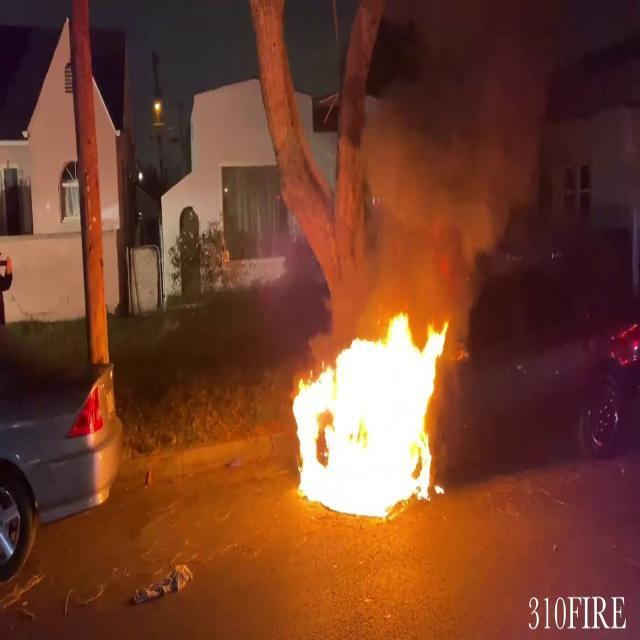Fire: (282, 301, 456, 524)
Smoke: (328, 0, 576, 268)
